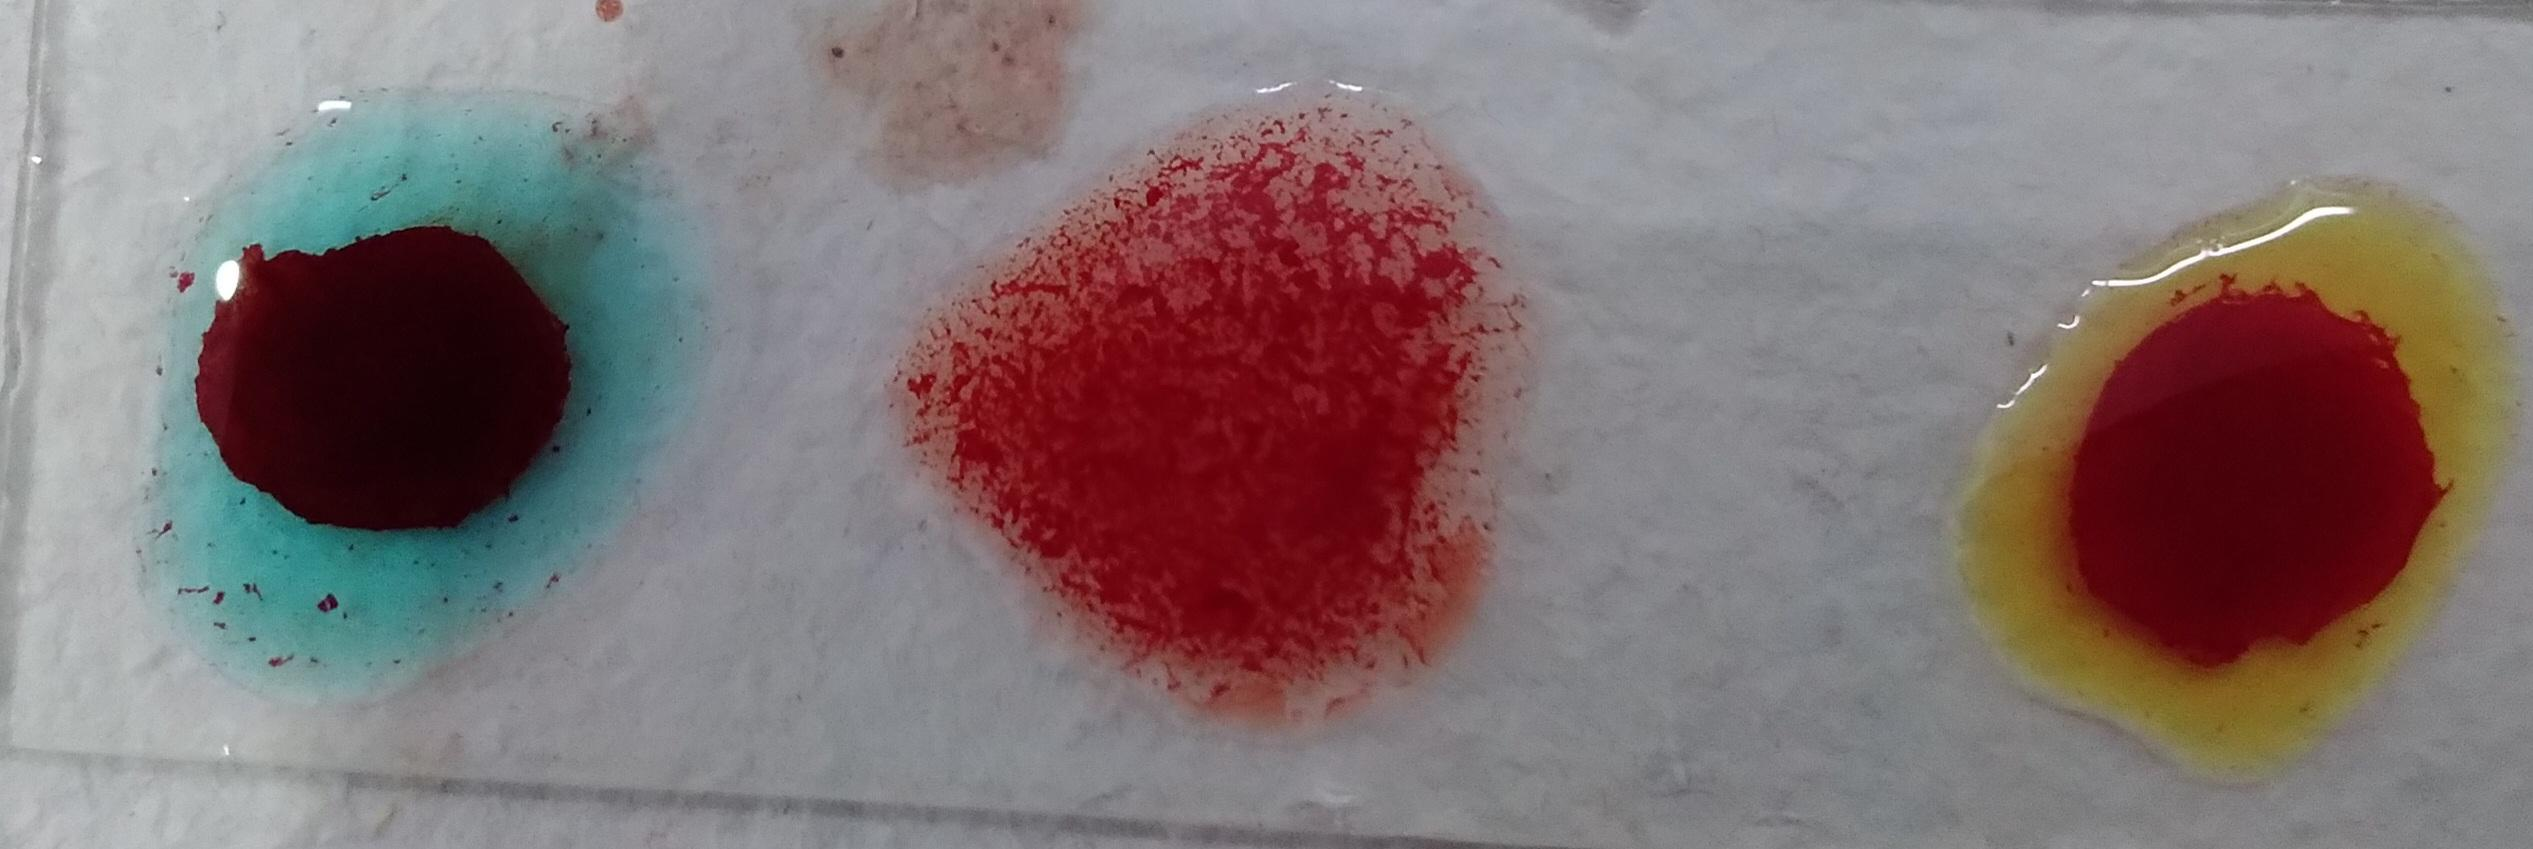A: (1888, 140, 2367, 721)
B: (44, 63, 548, 681)
D: (1005, 126, 1612, 763)
